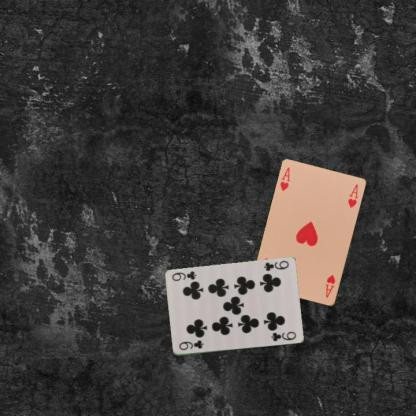9c: (176, 338, 205, 352), (261, 258, 290, 272)
Ah: (277, 165, 292, 192), (323, 272, 337, 299)
